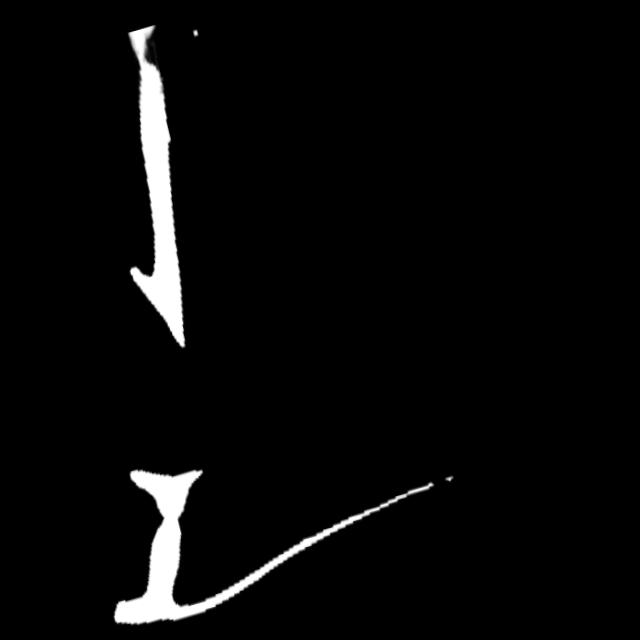sl: (120, 25, 170, 87)
